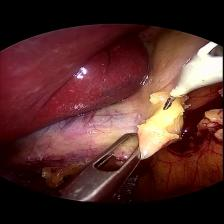Grasper: (57, 132, 152, 202)
Hook: (160, 41, 224, 112)
